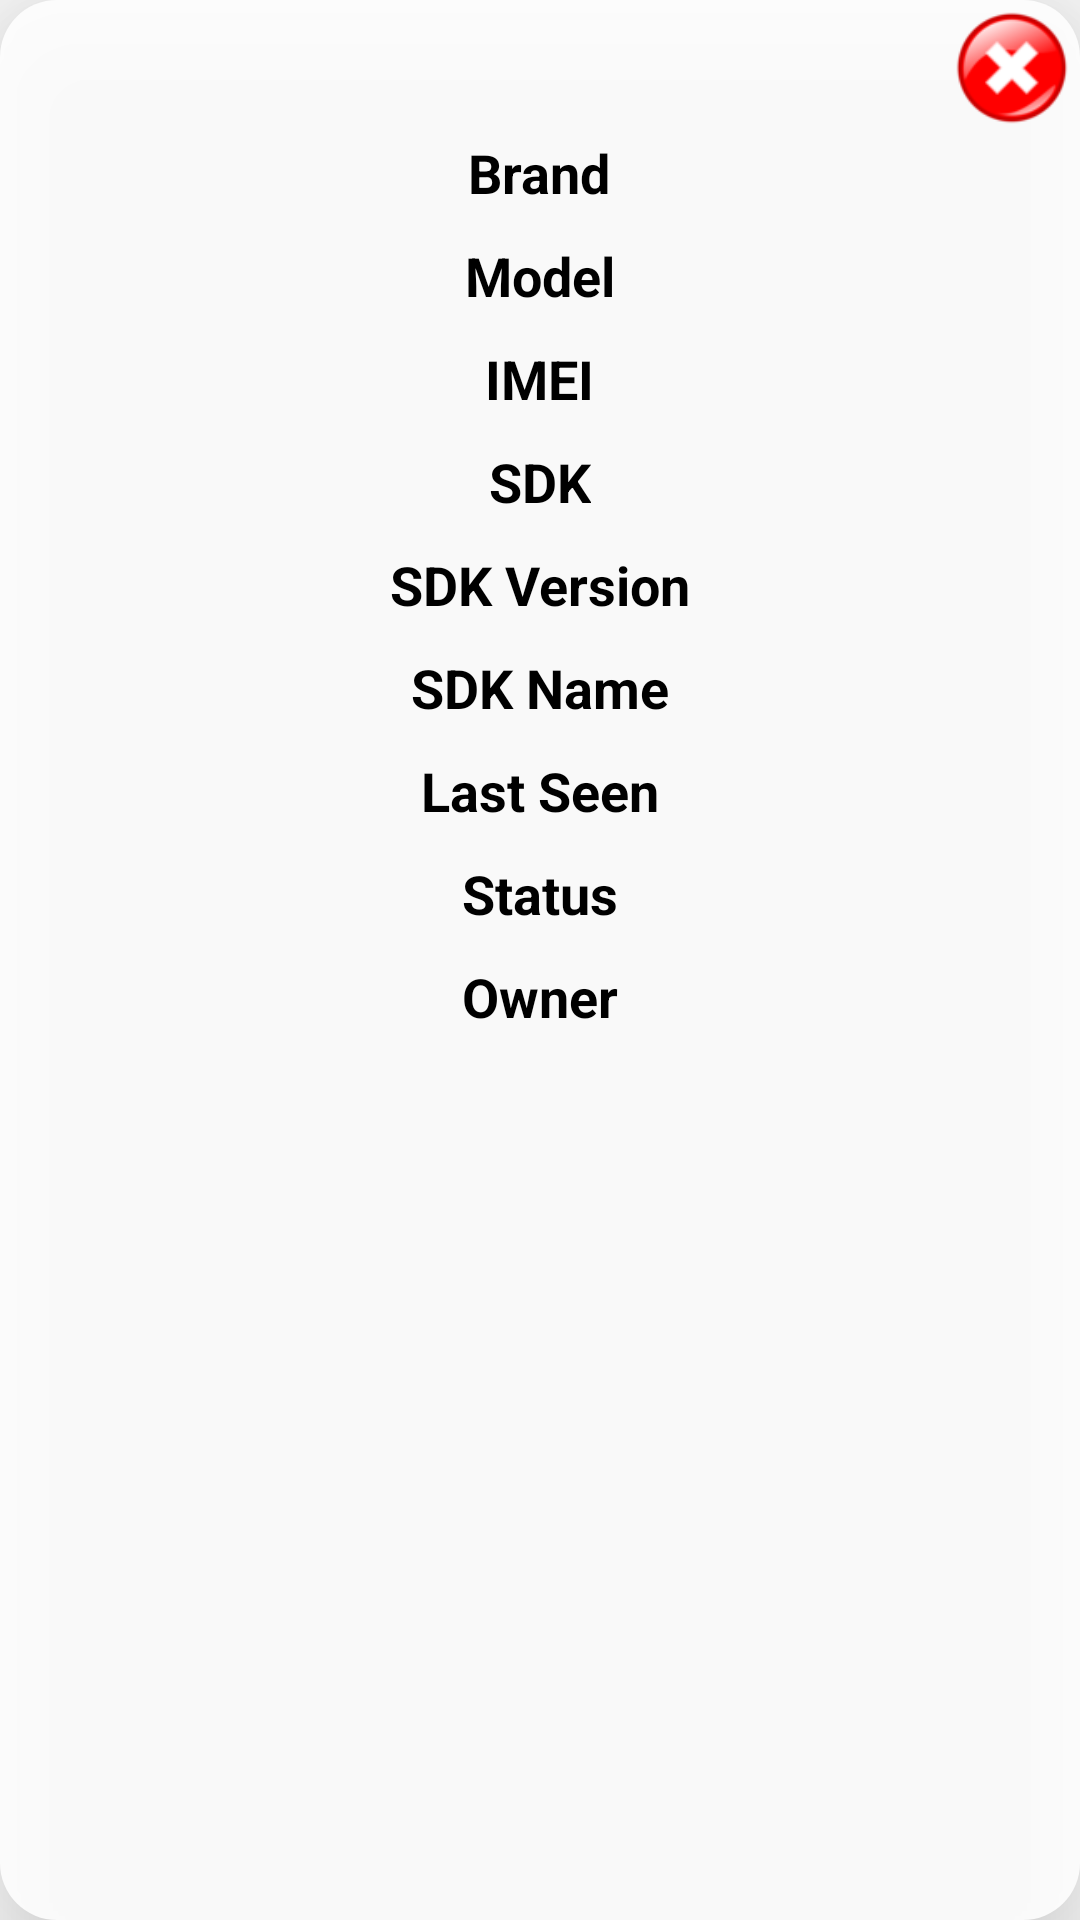

Icons on this 1080px×1920px Android screen, each with the point to tap as (x,y):
close: (1012,68)
